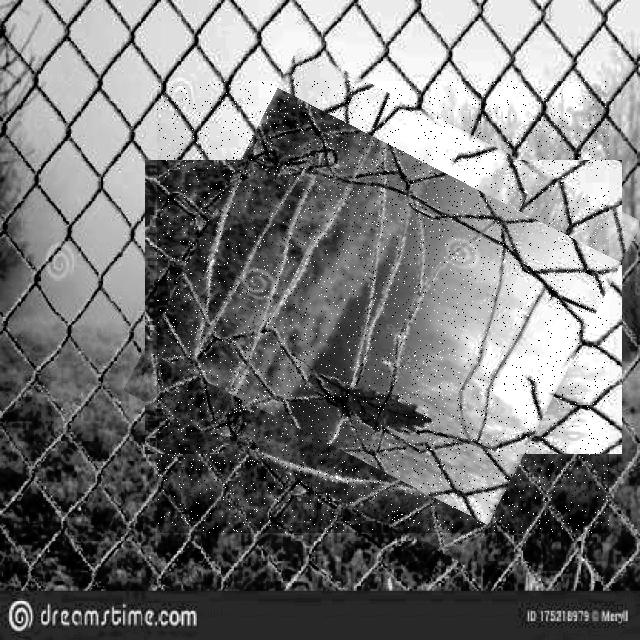anomaly-fence: (157, 81, 609, 533)
